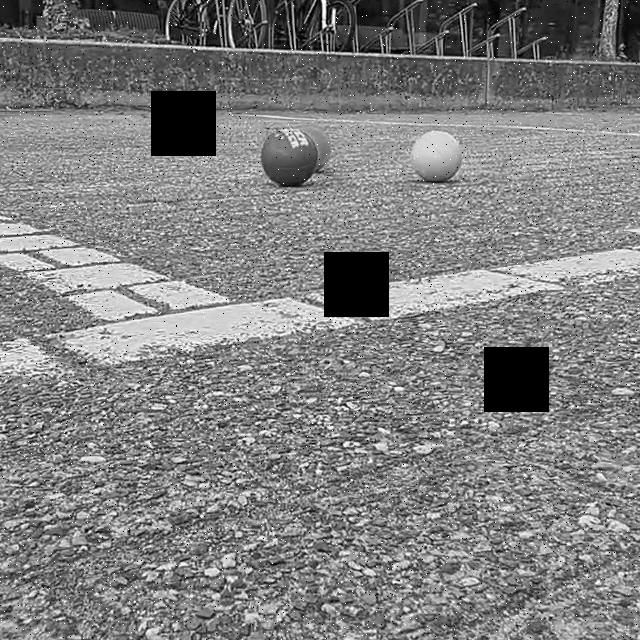ball: (260, 127, 320, 191), (406, 127, 466, 190)
